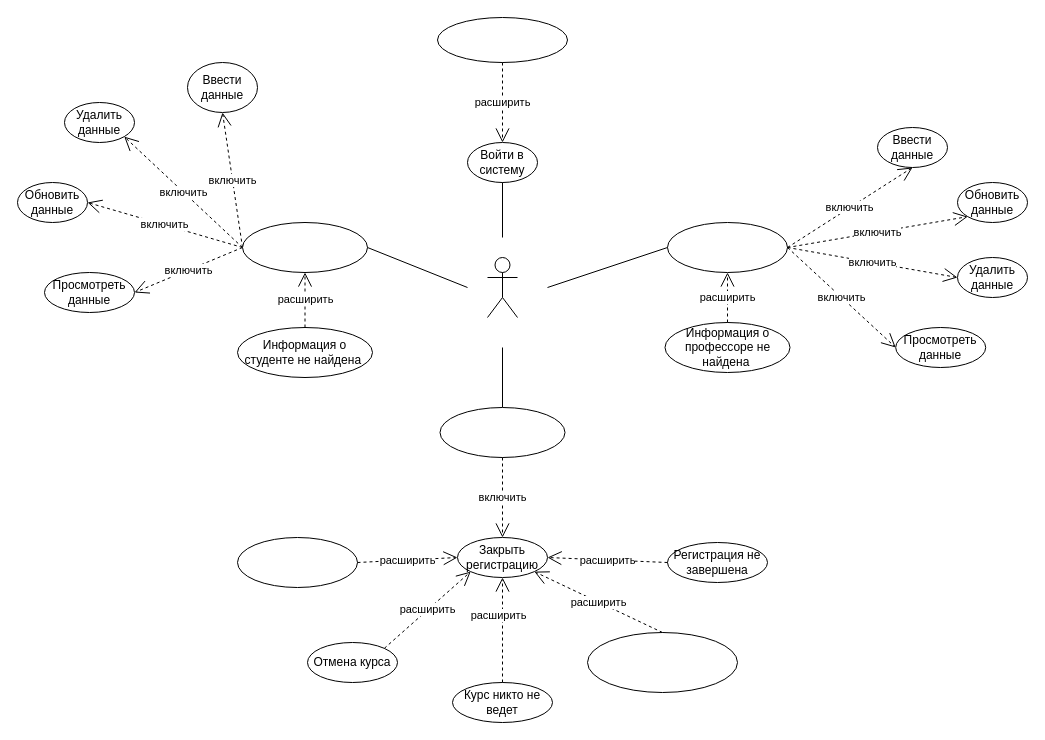
Some shapes in this 1045 by 740 pixel diagram are drawn without their labels. The box of each missing label's shape, as (x1, y1, x2, y2) in pixels:
Вести информацию о профессорах: (666, 222, 788, 272)
Вести информация о студентах: (242, 222, 368, 272)
На курс записалось меньше трех студентов: (586, 632, 738, 692)
Неправильное имя/пароль: (436, 16, 568, 62)
Подтвердить завершение регистрации: (439, 406, 565, 458)
Расчетная система не доступна: (236, 536, 358, 588)
Регистратор: (486, 256, 518, 318)
